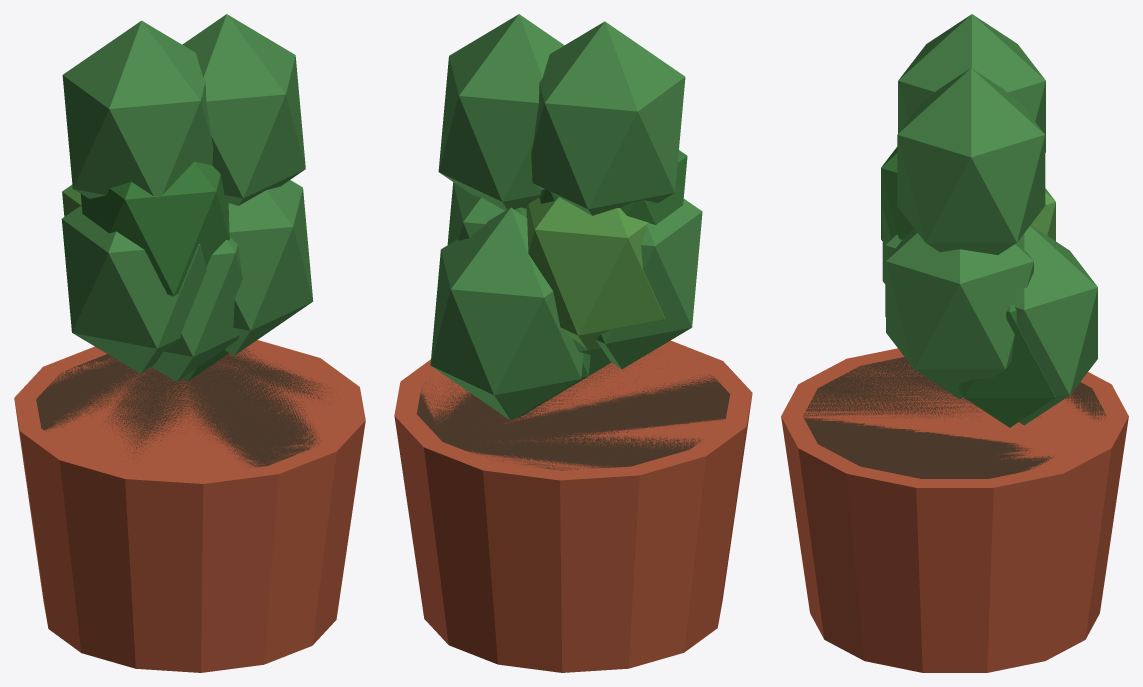
The model's file is plant.fbx.
The picture shows the model from 3 angles, left to right: view 1: azimuth 30°, elevation 25°; view 2: azimuth 150°, elevation 25°; view 3: azimuth 270°, elevation 25°; orthographic projection. The views are drawn at different scales.
Parts seen in each view (by area): view 1: plant; view 2: plant; view 3: plant.
Part boxes in pixels (left/top/right/bottom): plant: left=14, top=14, right=365, bottom=672; plant: left=394, top=14, right=752, bottom=672; plant: left=781, top=14, right=1128, bottom=672.
Size of the model in its own units: 0.468 by 0.8836 by 0.48.
